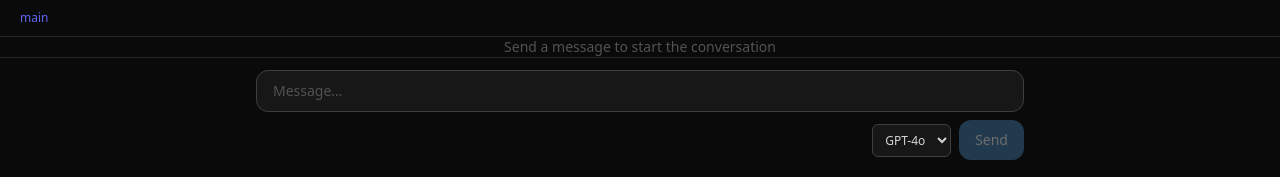
Scenario: ChatView — inline branch rename › shows an input when the branch label is clicked
expect the text "main" is shown: met, box [20,10,48,26]
Step 1. Click the button "main" → {"x": 41, "y": 18}, box [16,8,66,28]
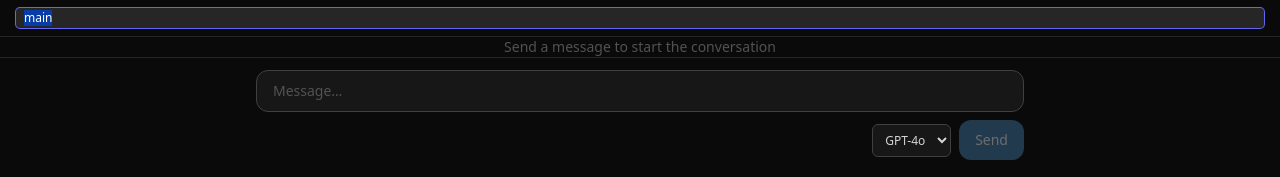
expect the field showing "main" is shown: met, box [16,8,1264,28]
